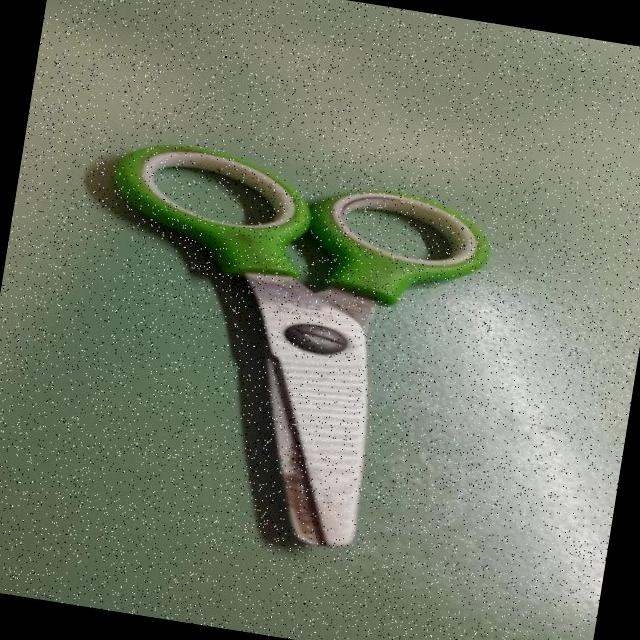scissors: (27, 121, 510, 578)
